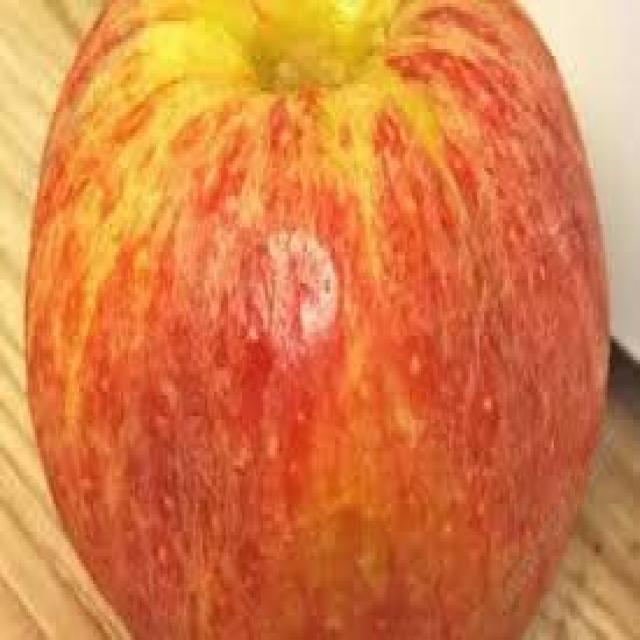organic waste: (24, 0, 608, 637)
